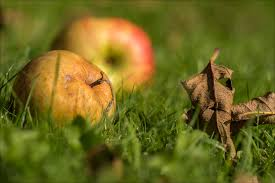apple: (57, 16, 161, 94)
damaged_apple: (16, 56, 118, 137)
